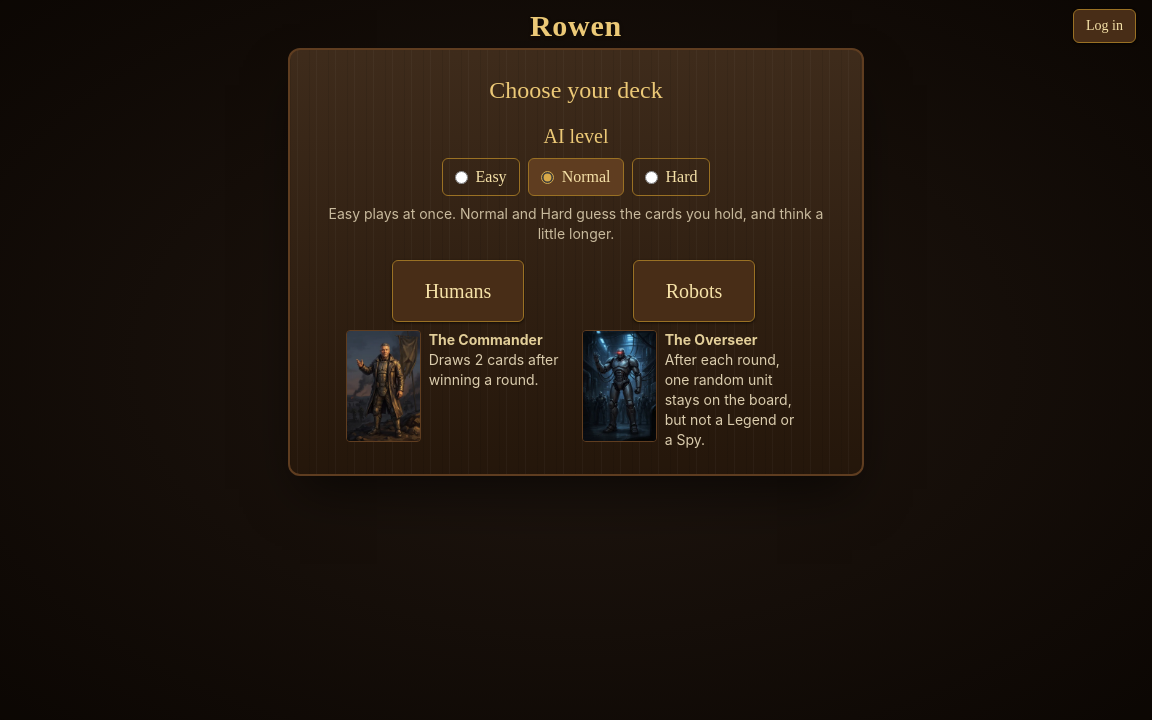
Cancel closes the dialog, and the focus goes back to Log in
What coordinates should you click on to do the following:
click the button "Log in"
I would click on:
 (1104, 26)
Its box is [1073,9,1136,43].
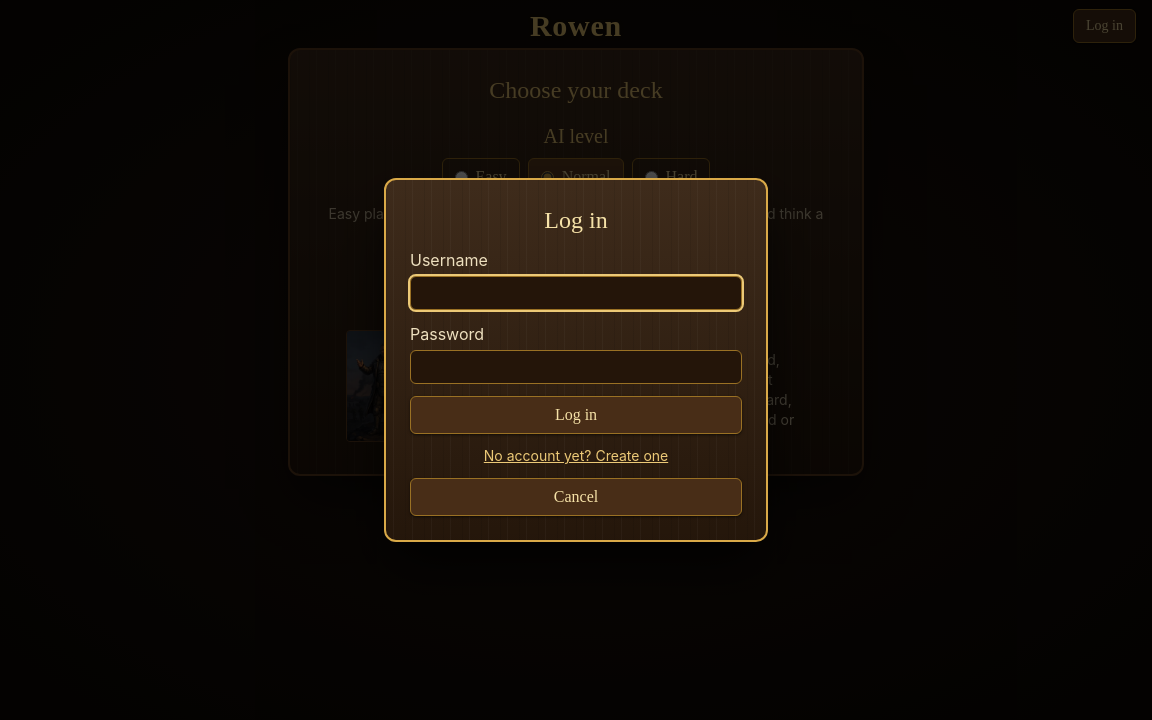
What coordinates should you click on to do the following:
click the button "Cancel"
I would click on:
 (576, 497)
Its box is [410,478,742,516].
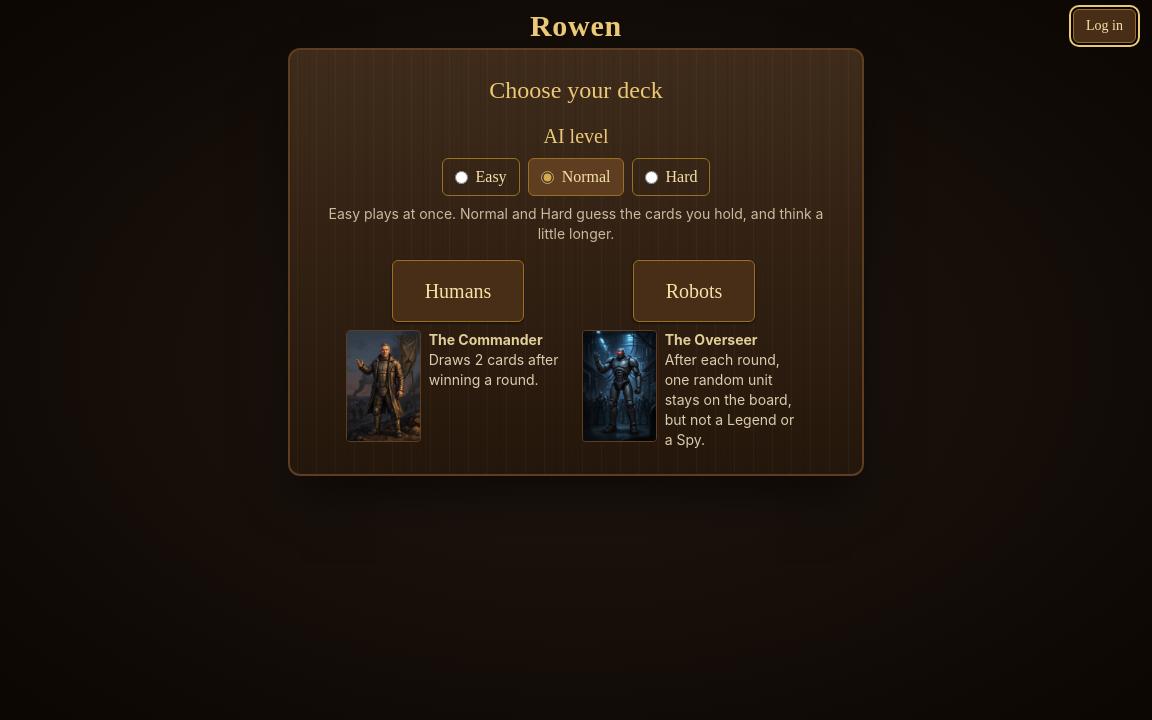
Expected: the dialog is gone
